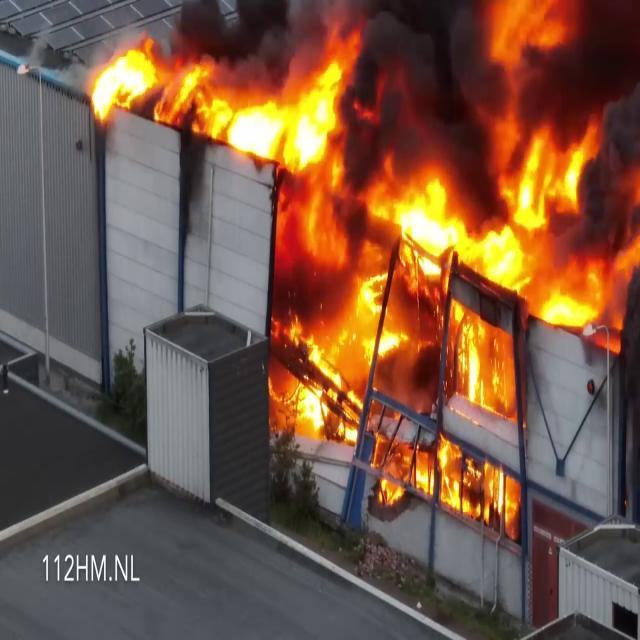Fire: (268, 8, 630, 472), (89, 26, 362, 174), (381, 429, 519, 519)
